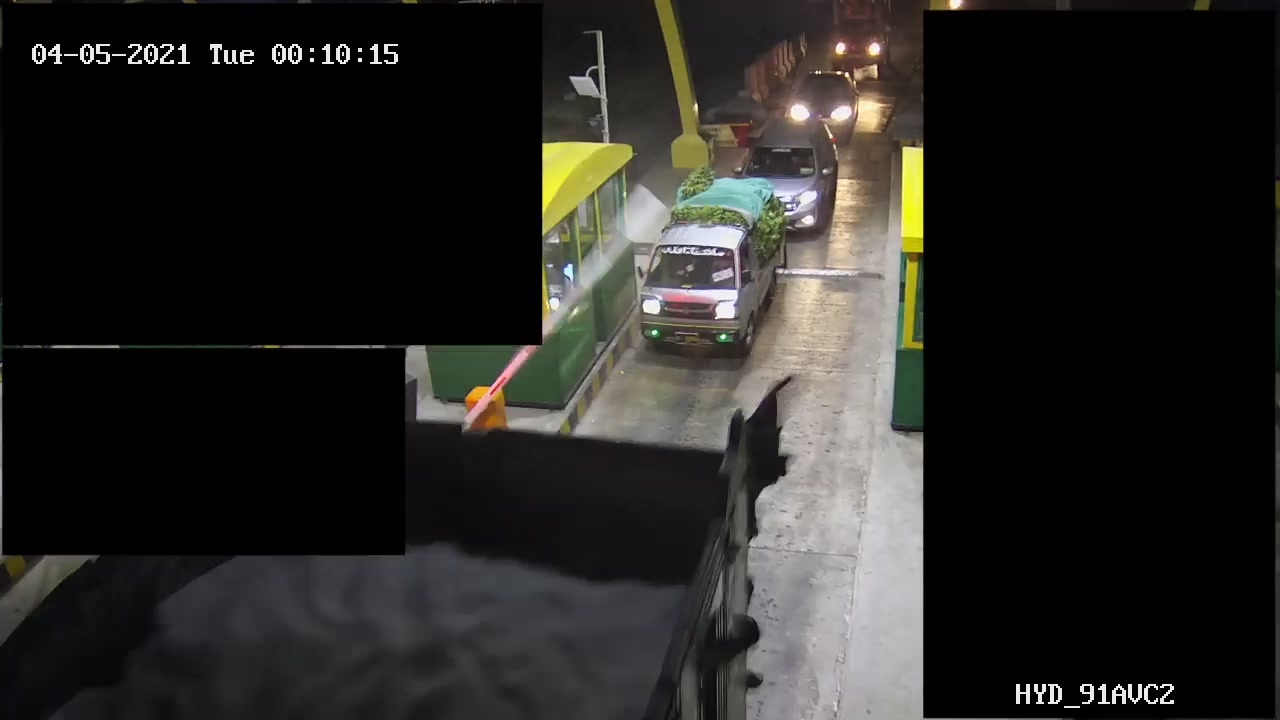F1: (626, 174, 783, 360)
